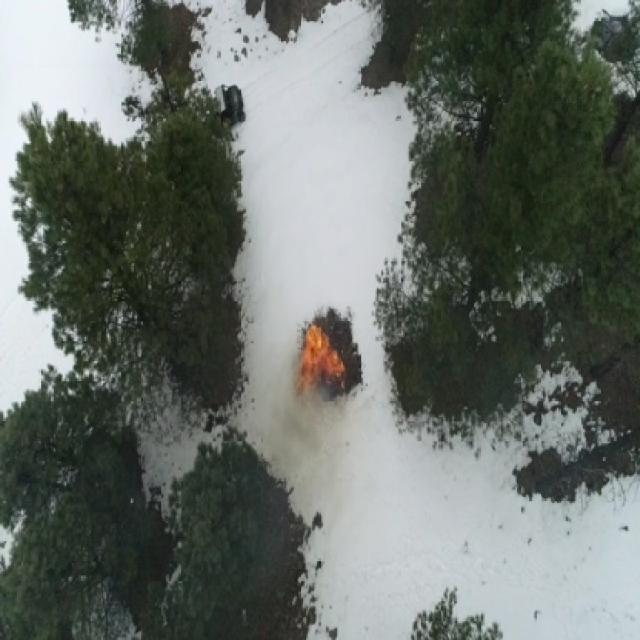Fire: (292, 320, 346, 402)
